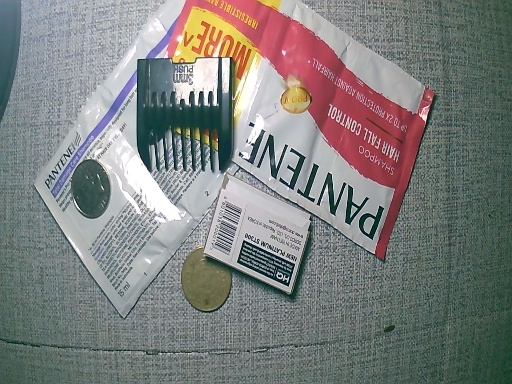metal: (184, 248, 227, 314), (70, 160, 107, 219)
plastic: (241, 1, 435, 260), (37, 65, 138, 310), (139, 173, 216, 302), (119, 3, 237, 60)
trash: (208, 174, 307, 299), (135, 58, 232, 175)
